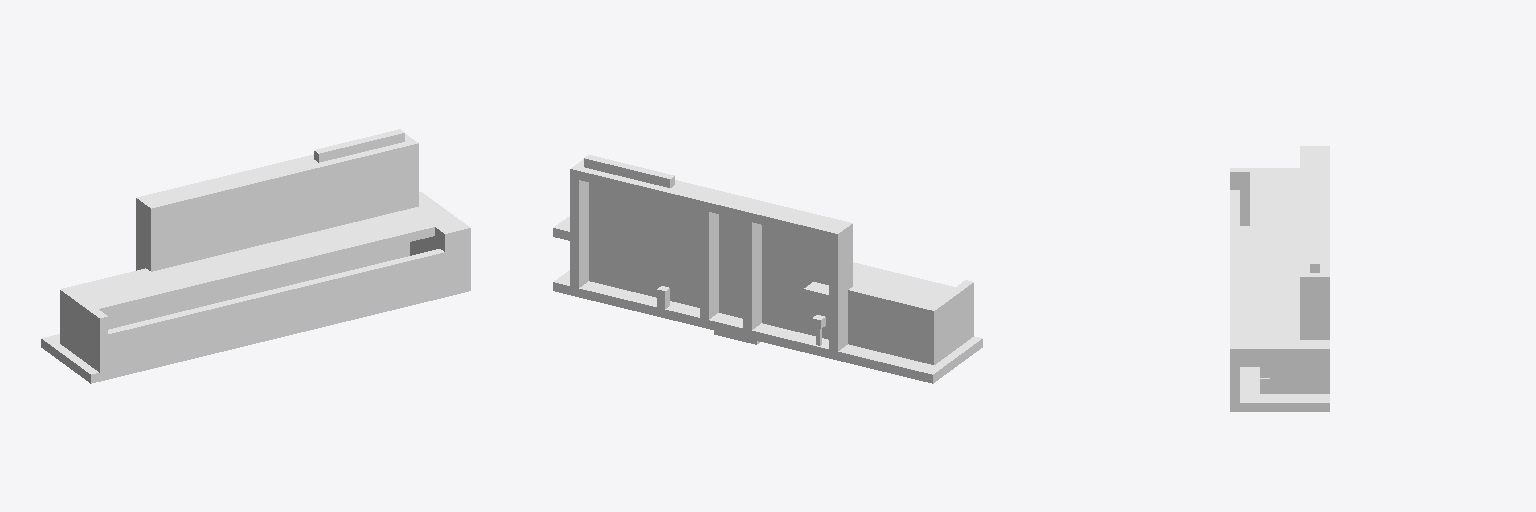
The model's file is go_ciel_laine.obj.
The picture shows the model from 3 angles: view 1: azimuth 30°, elevation 25°; view 2: azimuth 150°, elevation 25°; view 3: azimuth 270°, elevation 25°; orthographic projection.
Visible parts, largest first — view 1: __RTX___Test_Map_2_0__166_0_-205_to_209_319_-195; view 2: __RTX___Test_Map_2_0__166_0_-205_to_209_319_-195; view 3: __RTX___Test_Map_2_0__166_0_-205_to_209_319_-195.
Part boxes in pixels (bbox=[...]): __RTX___Test_Map_2_0__166_0_-205_to_209_319_-195: bbox=[41, 129, 470, 383]; __RTX___Test_Map_2_0__166_0_-205_to_209_319_-195: bbox=[553, 155, 982, 383]; __RTX___Test_Map_2_0__166_0_-205_to_209_319_-195: bbox=[1230, 146, 1329, 411].
Bounding box in the file's own units: 6.6 × 2.4 × 1.5.